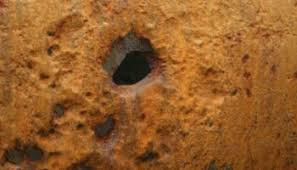rust: (2, 2, 296, 168)
